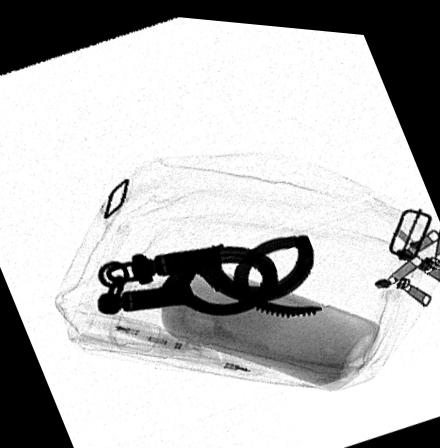HandCuffs: (96, 227, 322, 312)
